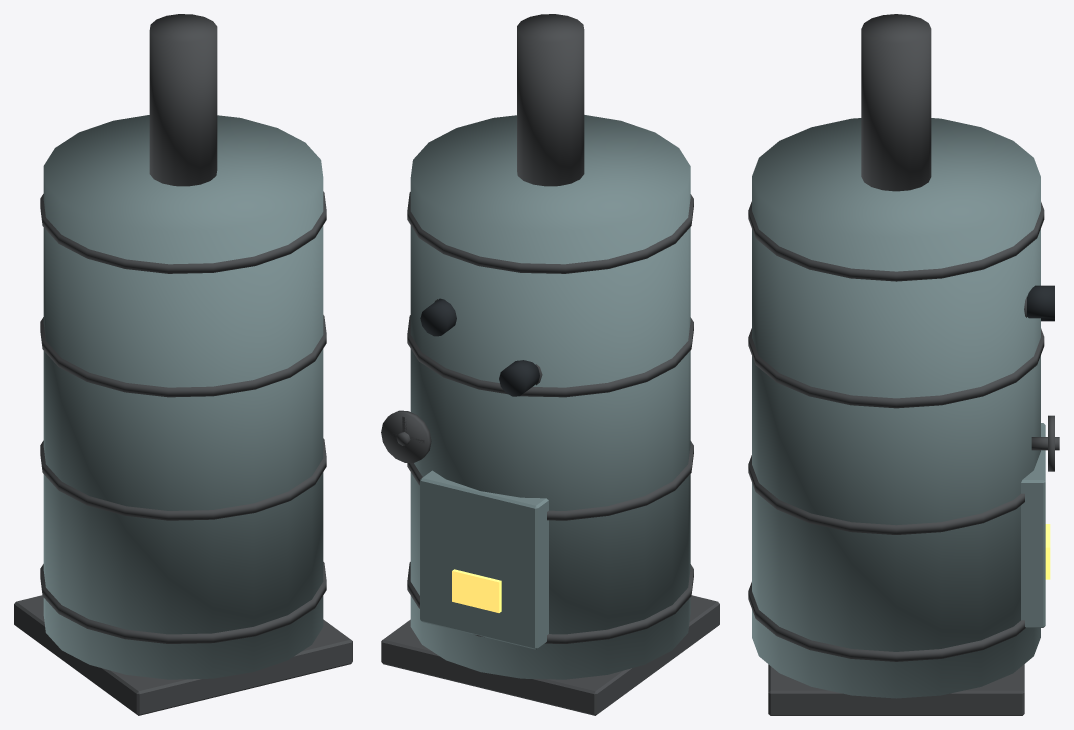
Rendered from boiler_unit.glb.
3 renders of one model, left to right at view 1: azimuth 30°, elevation 25°; view 2: azimuth 150°, elevation 25°; view 3: azimuth 270°, elevation 25°, orthographic. The views are drawn at different scales.
Visible parts, largest first — view 1: boiler_unit; view 2: boiler_unit; view 3: boiler_unit.
Boxes of the visible parts, <box> form: boiler_unit: <box>14,14,352,715</box>; boiler_unit: <box>381,14,719,715</box>; boiler_unit: <box>748,14,1059,715</box>.
Bounding box in the file's own units: 1.27 × 3 × 1.33.
